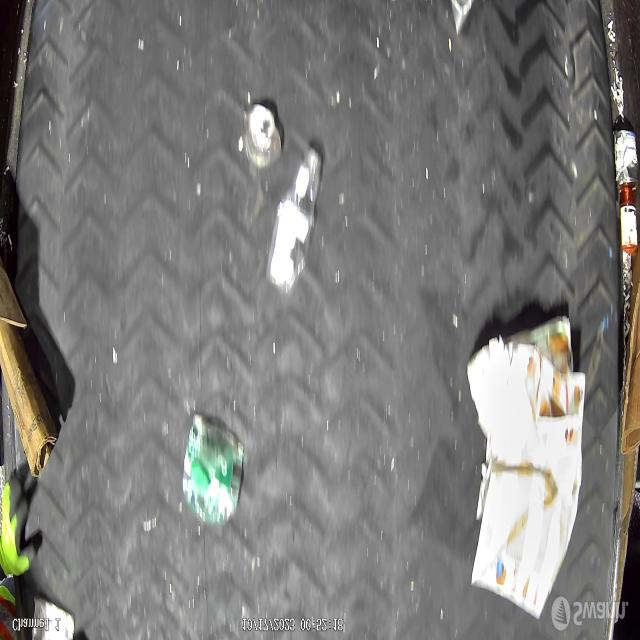can: (613, 130, 640, 192)
plastic_bottle: (266, 147, 321, 295)
